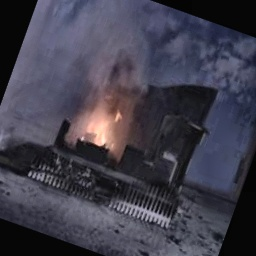fire: (65, 72, 141, 162)
smoke: (16, 0, 158, 103)
